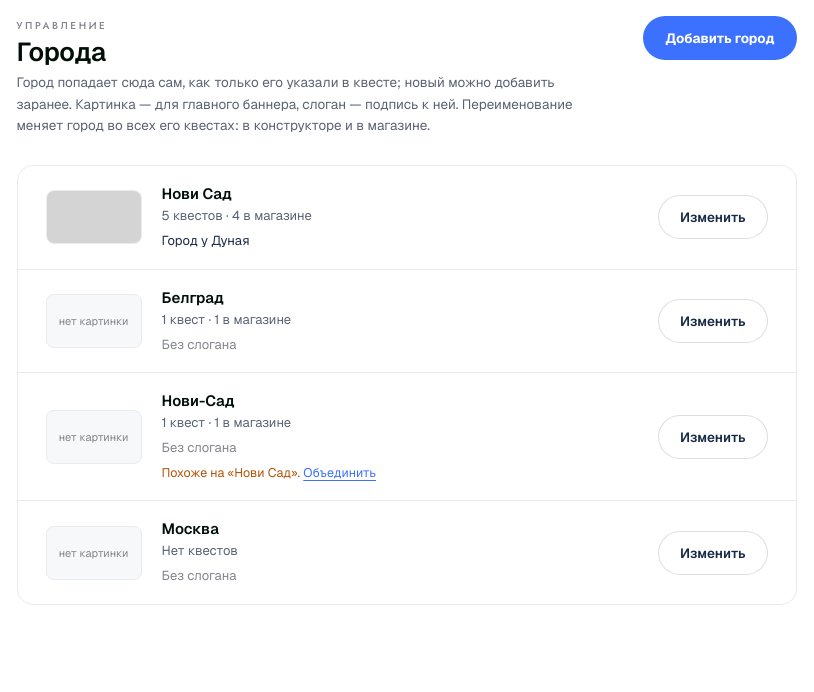
Scenario: AdminCitiesPage › shows the server reason when a save is refused
The width and height of the screenshot is (814, 692).
Click the button "Добавить город" at x=720, y=38, box [643,16,796,60]
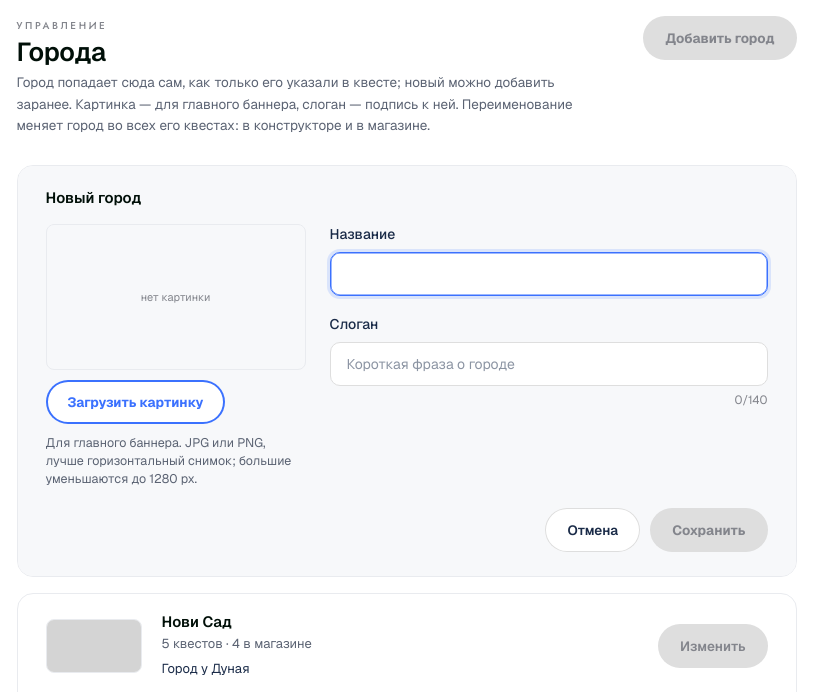
Type "Москва" into the field labelled "Название" at x=548, y=274, box [330,252,768,296]
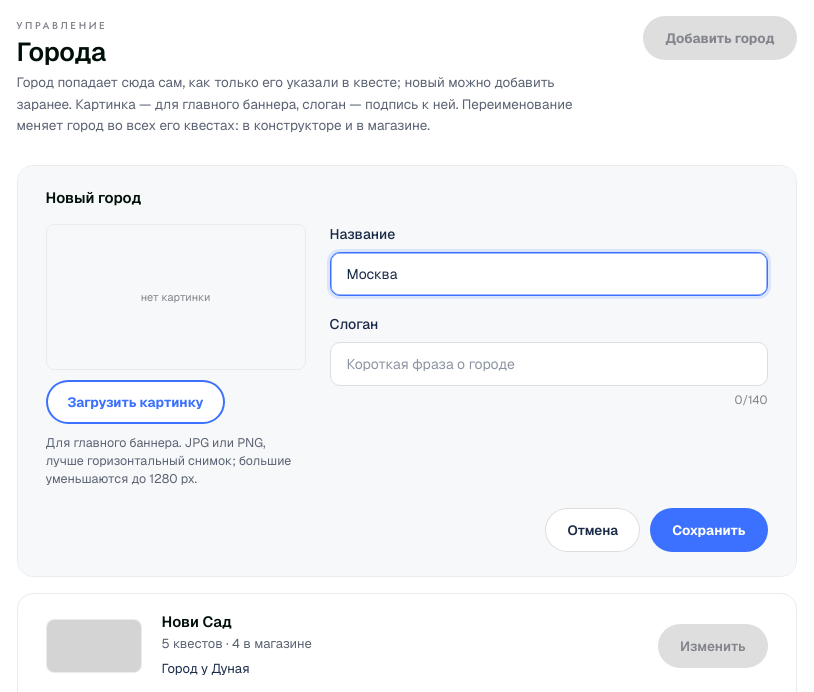
Click the button "Сохранить" at x=709, y=530, box [650,508,768,552]
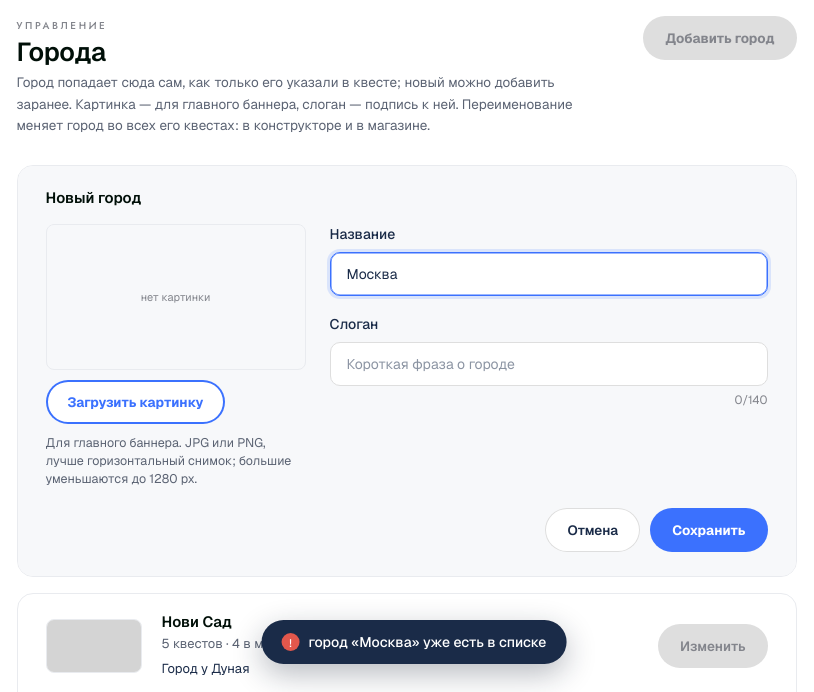
Result: the text "город «Москва» уже есть в списке" is shown at [309,633,546,651]
